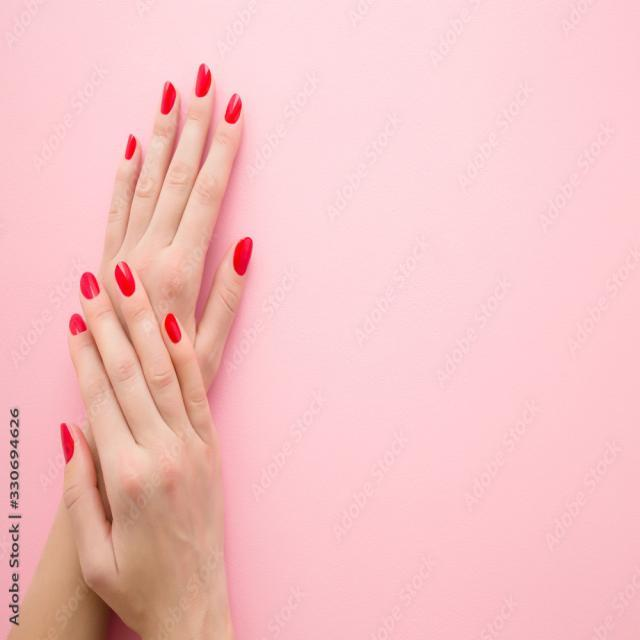Fingernail: (234, 237, 253, 277), (115, 262, 135, 298), (196, 62, 212, 97), (59, 423, 73, 463), (80, 272, 100, 299), (225, 93, 242, 124), (165, 313, 182, 344), (160, 81, 176, 113), (70, 314, 87, 335), (125, 135, 136, 160)
